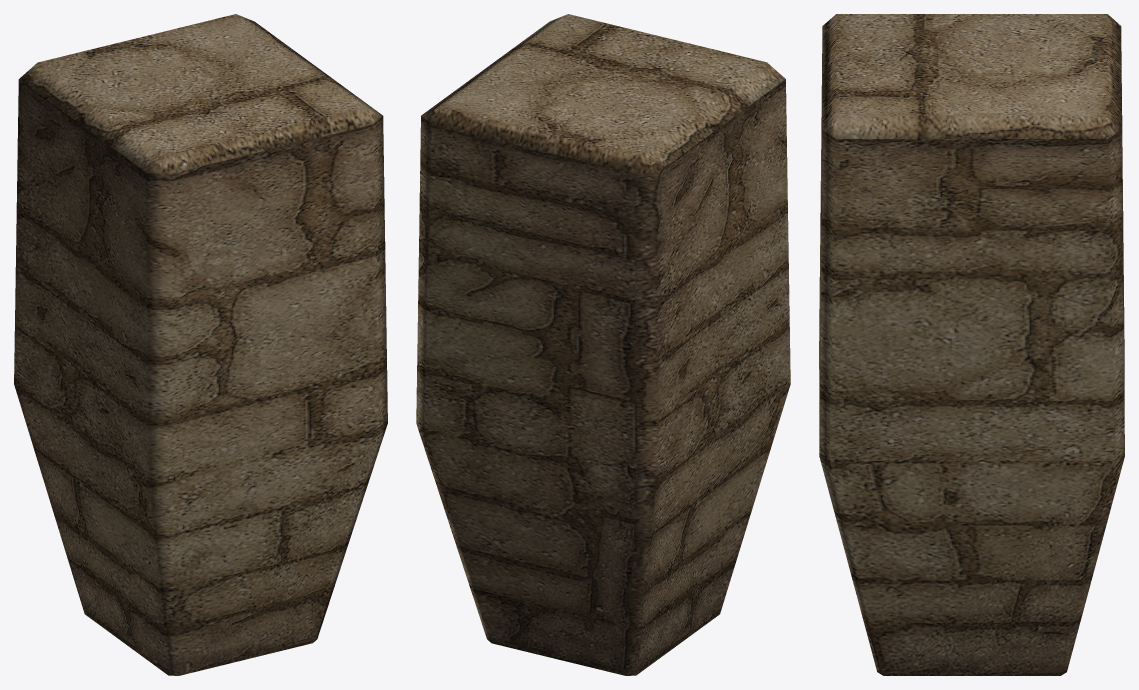
File: Block_07.fbx
3 views of the same model, side by side, from view 1: azimuth 30°, elevation 25°; view 2: azimuth 150°, elevation 25°; view 3: azimuth 270°, elevation 25° (orthographic). The views are drawn at different scales.
Visible parts, largest first — view 1: Block_07; view 2: Block_07; view 3: Block_07.
Boxes of the visible parts, box(x1,y1,x2,y2) form: Block_07: box(14, 14, 387, 675); Block_07: box(416, 14, 790, 675); Block_07: box(819, 14, 1124, 675).
Bounding box in the file's own units: 1.86 × 4.01 × 1.94.
